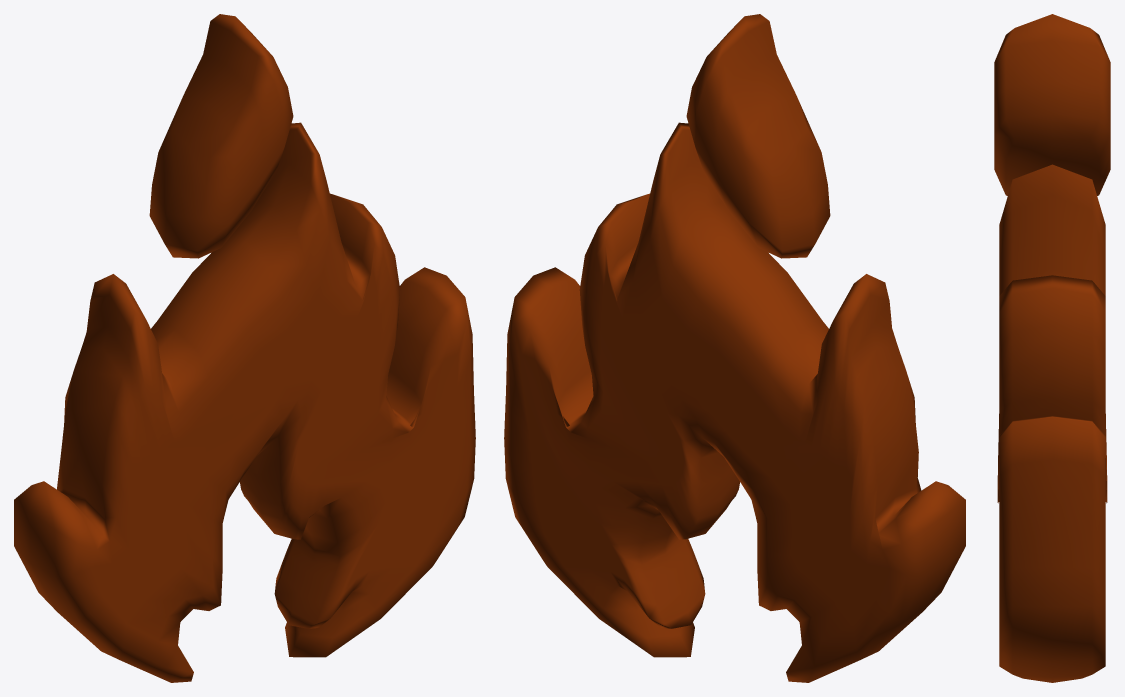
File: vulcan_powerup.fbx
3 renders of one model, left to right at view 1: azimuth 30°, elevation 25°; view 2: azimuth 150°, elevation 25°; view 3: azimuth 270°, elevation 25°, orthographic. The views are drawn at different scales.
Parts seen in each view (by area): view 1: pCube3; view 2: pCube3; view 3: pCube3.
Boxes of the visible parts, bbox=[...] form: pCube3: bbox=[14, 14, 475, 682]; pCube3: bbox=[504, 14, 965, 682]; pCube3: bbox=[994, 14, 1110, 682].
Size of the model in its own units: 1.94 by 2.81 by 0.4654.
